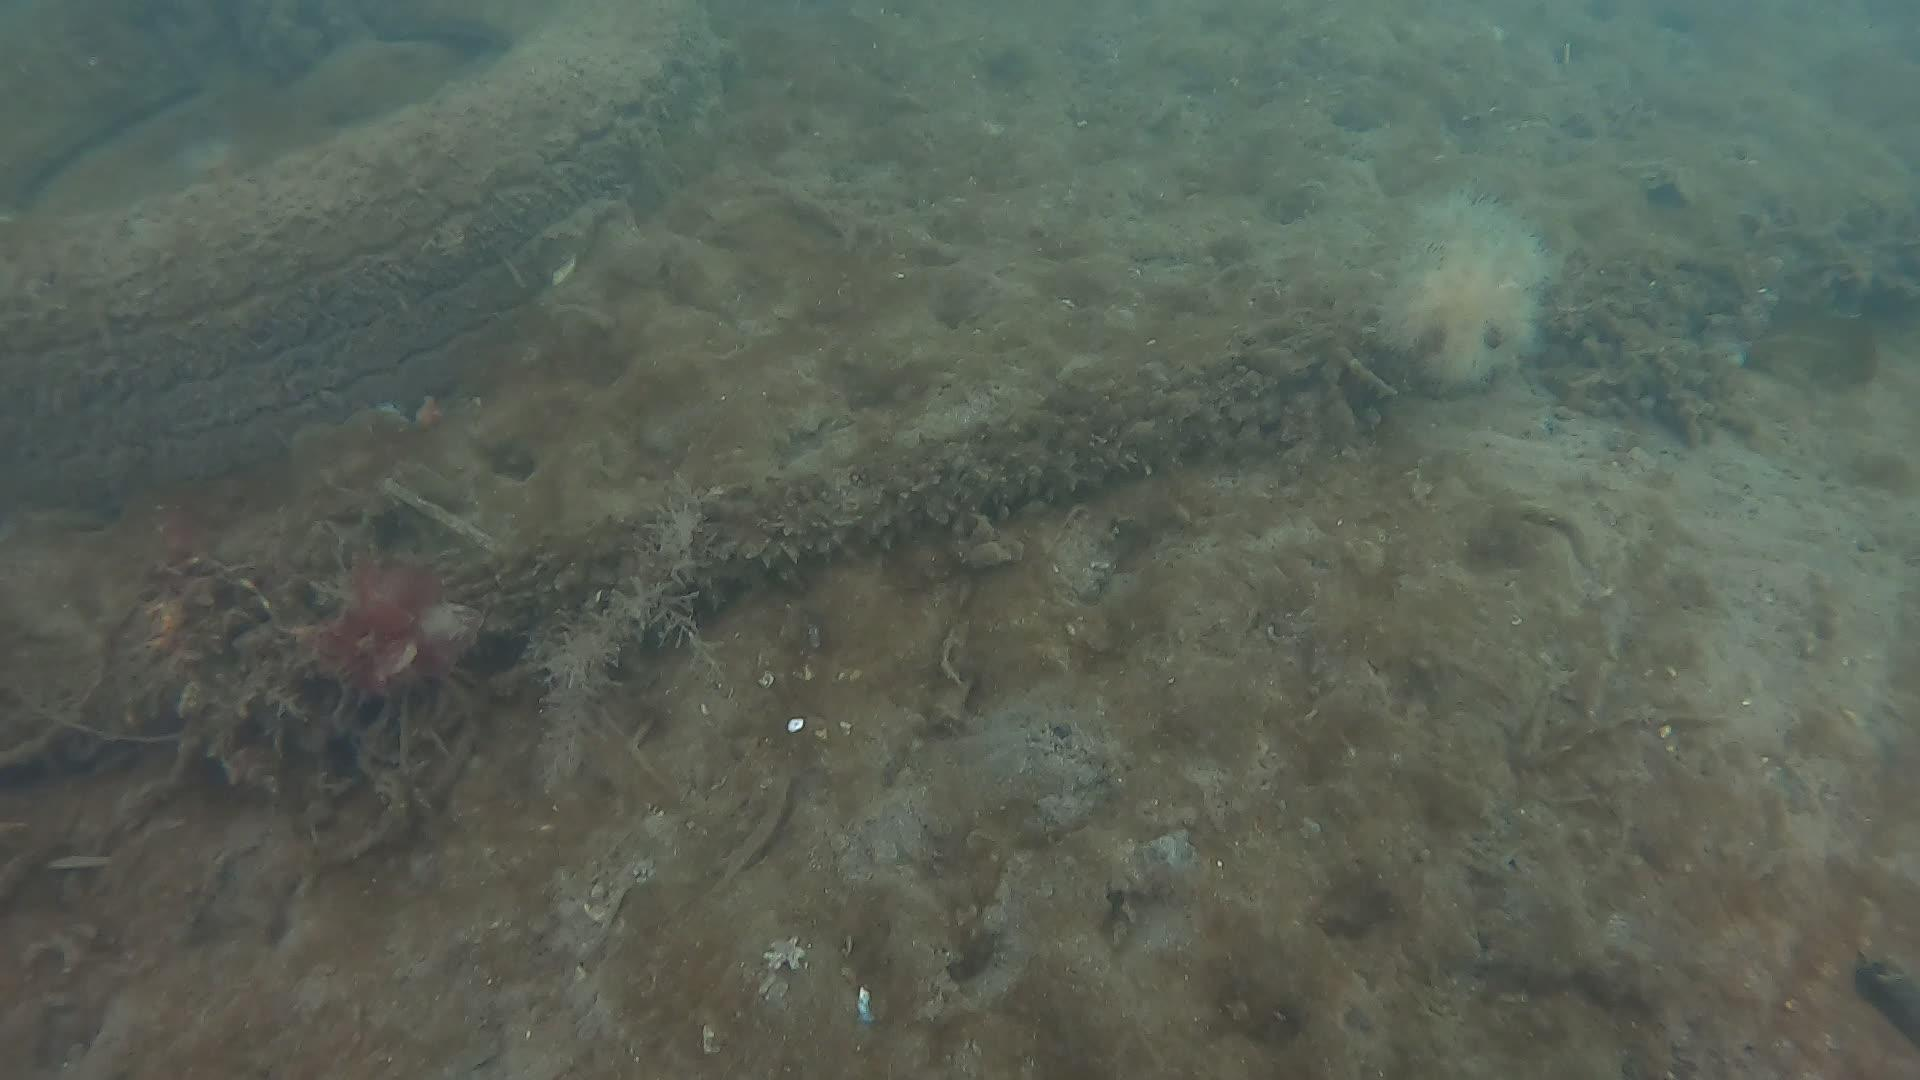bundle of ropes: (173, 200, 1912, 767)
tire: (0, 0, 724, 493)
